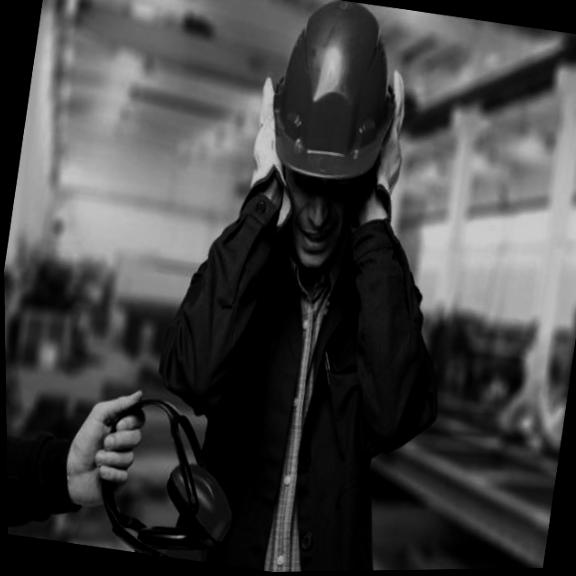no_safety_vest: (144, 205, 428, 574)
